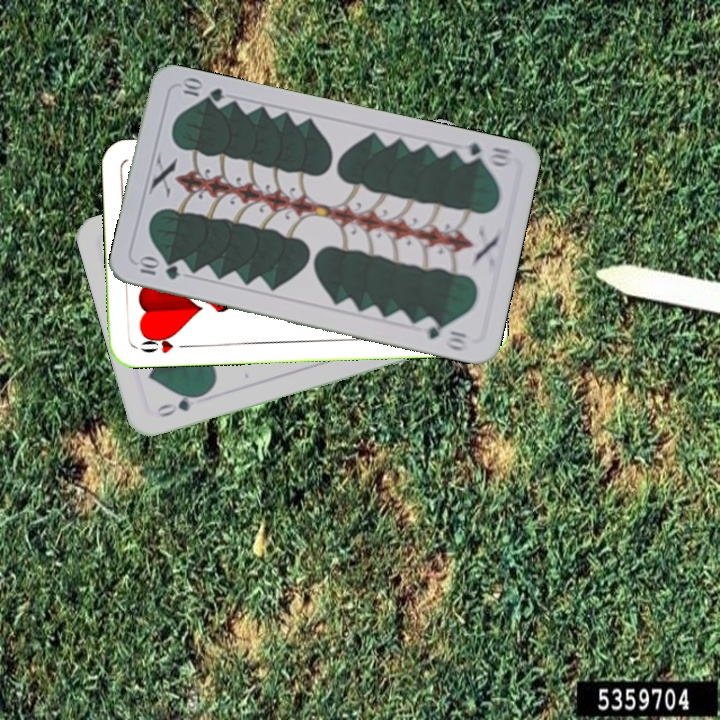G10: (454, 138, 516, 170), (135, 254, 182, 282)
GO: (151, 390, 207, 420)
HO: (137, 331, 192, 356)
